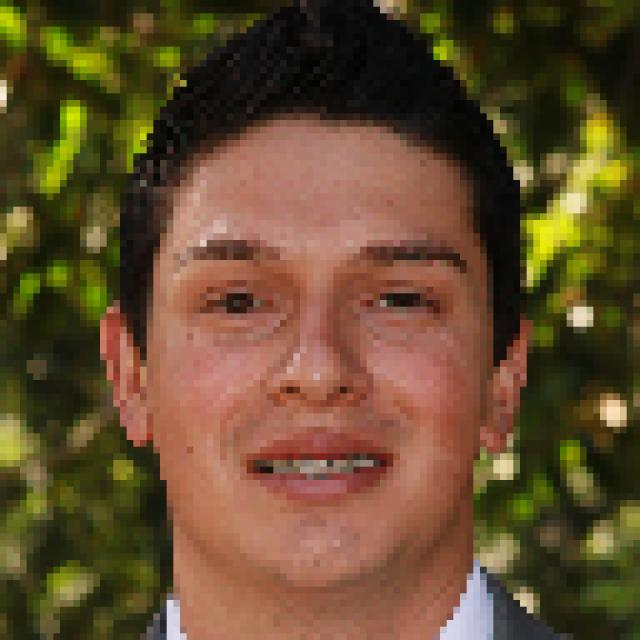happy: (140, 99, 519, 601)
